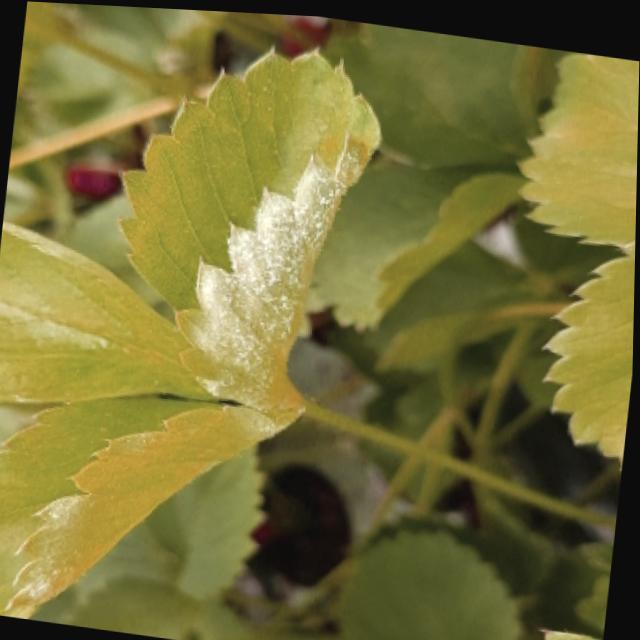Powdery Mildew Leaf: (116, 38, 381, 420), (0, 392, 286, 618), (0, 219, 217, 403)
